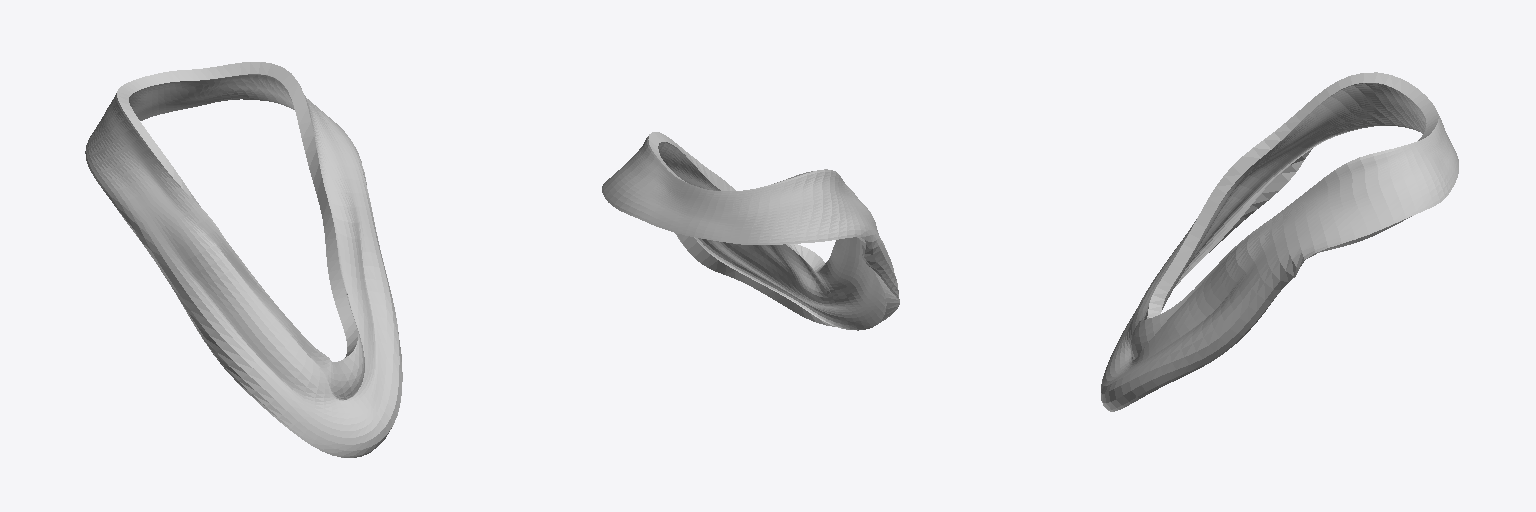
File: smallscarf.obj
3 views of the same model, side by side, from view 1: azimuth 30°, elevation 25°; view 2: azimuth 150°, elevation 25°; view 3: azimuth 270°, elevation 25° (orthographic).
Parts seen in each view (by area): view 1: smallscarf1; view 2: smallscarf1; view 3: smallscarf1.
Boxes of the visible parts, x1=… form: smallscarf1: x1=85, y1=62, x2=402, y2=457; smallscarf1: x1=602, y1=132, x2=899, y2=330; smallscarf1: x1=1101, y1=72, x2=1458, y2=411.
Bounding box in the file's own units: 0.0732 × 0.0813 × 0.0942.